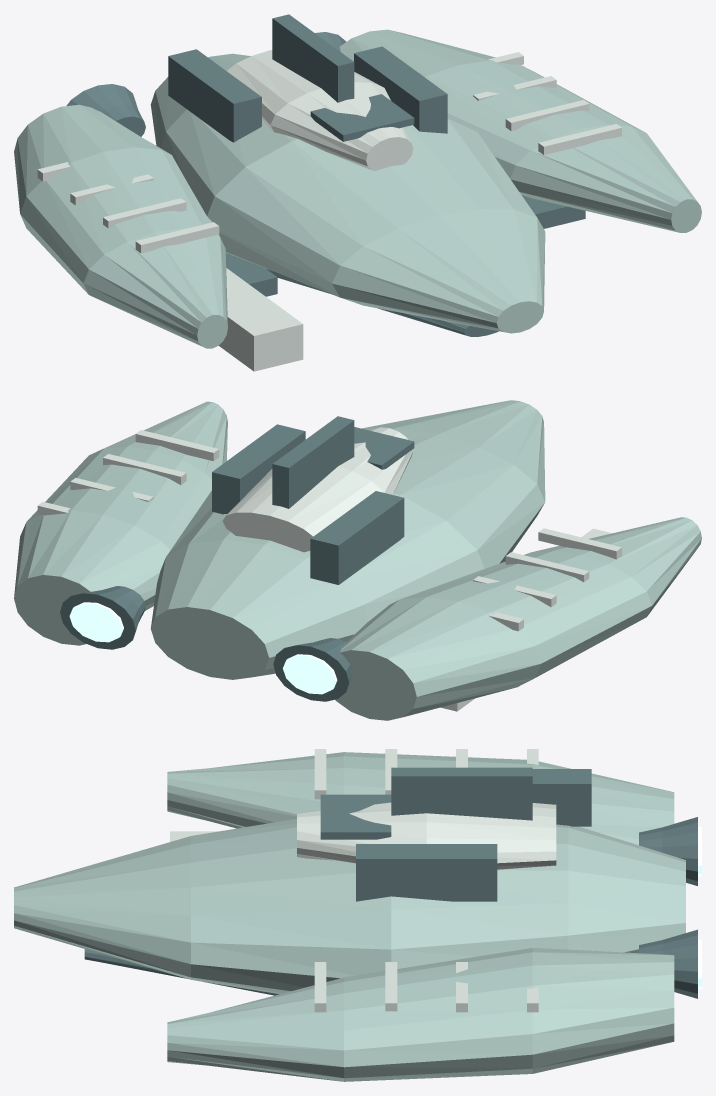
3 renders of one model, top to bottom at view 1: azimuth 30°, elevation 25°; view 2: azimuth 150°, elevation 25°; view 3: azimuth 270°, elevation 25°, orthographic. The views are drawn at different scales.
Size of the model in its own units: 12.05 by 3.9 by 11.66.
